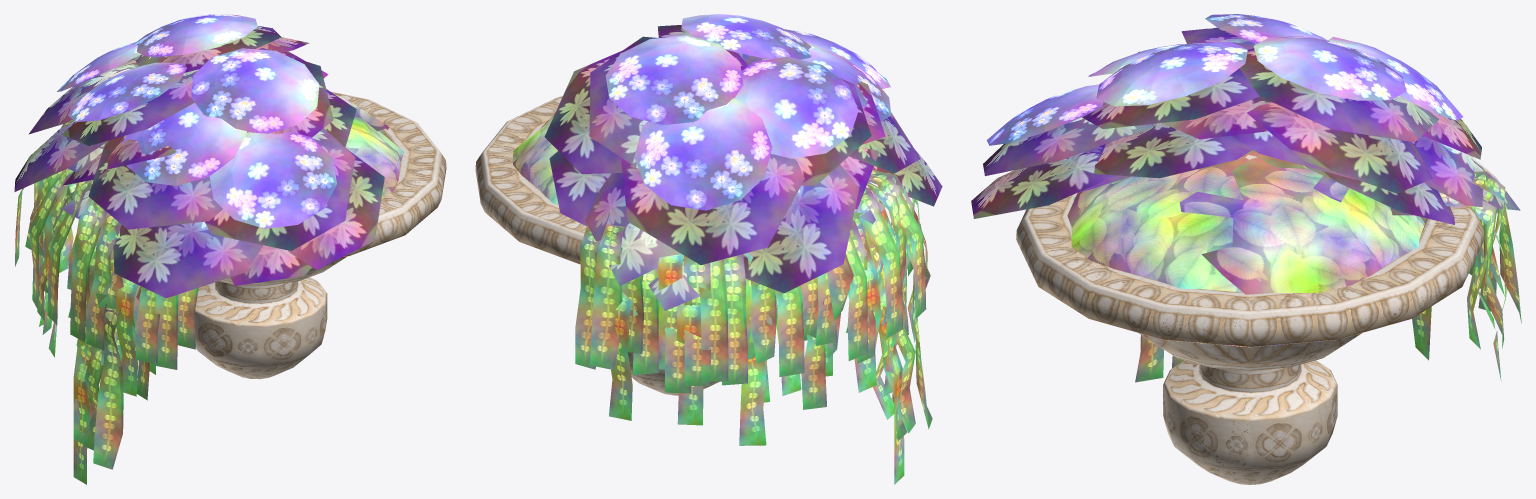
The model's file is smallbowl00_SM.fbx.
The picture shows the model from 3 angles, left to right: view 1: azimuth 30°, elevation 25°; view 2: azimuth 150°, elevation 25°; view 3: azimuth 270°, elevation 25°; orthographic projection. The views are drawn at different scales.
Visible parts, largest first — view 1: smallbowl00_SM_LOD0; view 2: smallbowl00_SM_LOD0; view 3: smallbowl00_SM_LOD0.
Boxes of the visible parts, bbox=[...] form: smallbowl00_SM_LOD0: bbox=[14, 14, 446, 484]; smallbowl00_SM_LOD0: bbox=[475, 14, 942, 484]; smallbowl00_SM_LOD0: bbox=[971, 14, 1521, 484].
Bounding box in the file's own units: 173 × 182 × 173.
7 materials, 7 textured.
